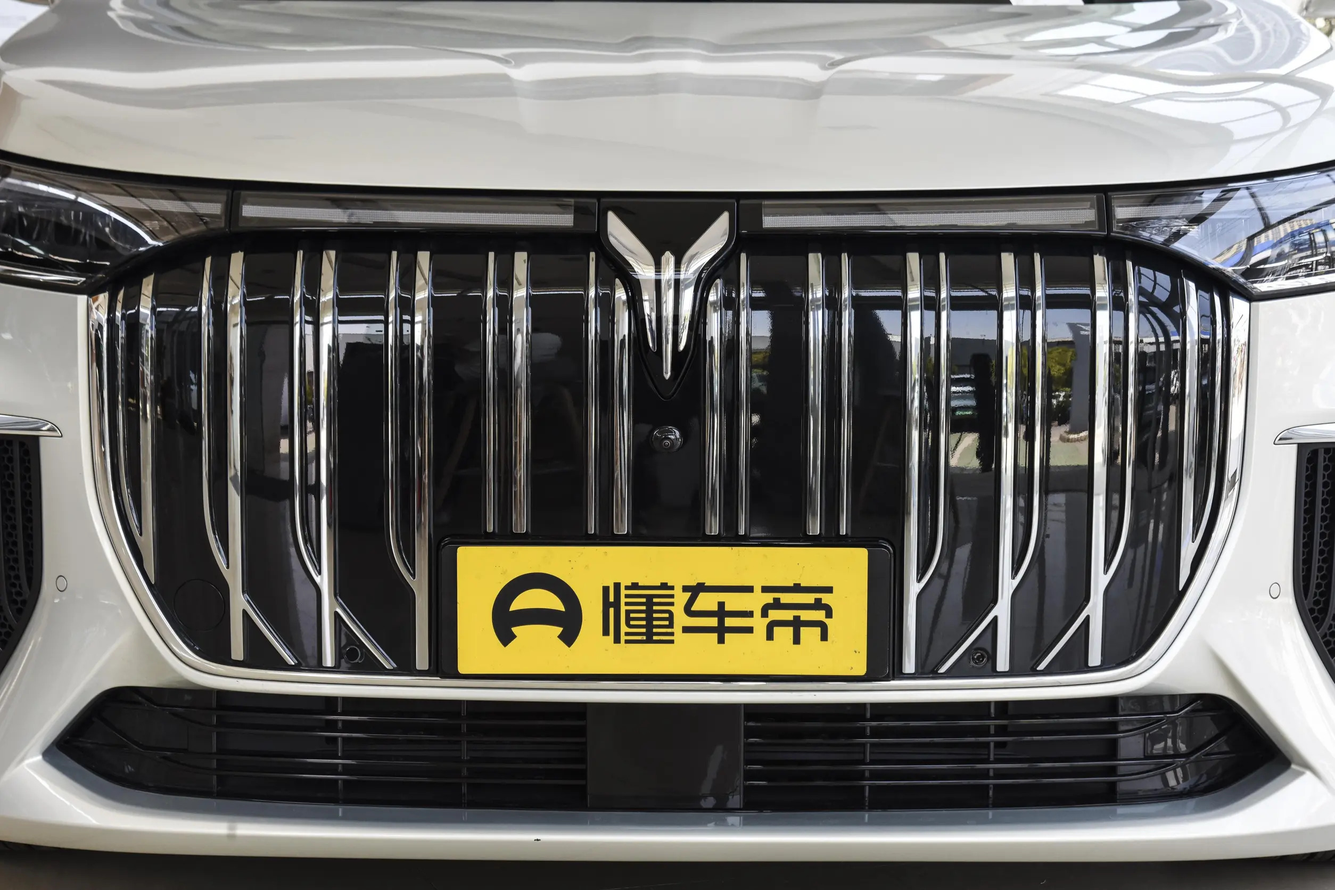VOYAH: (607, 211, 728, 379)
